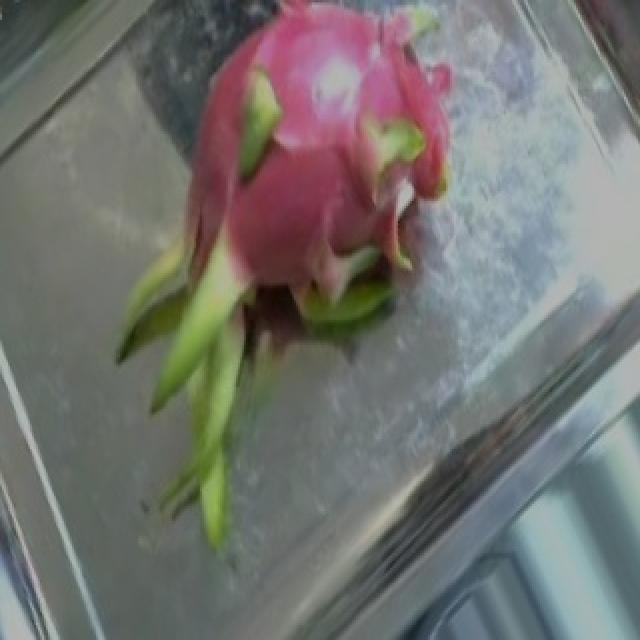fruit: (30, 3, 360, 439)
